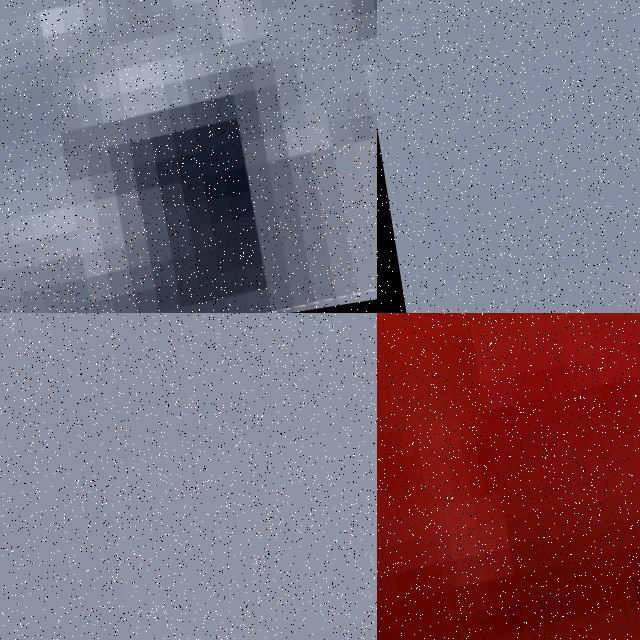0: (0, 0, 377, 313)
drone: (377, 313, 640, 640)
